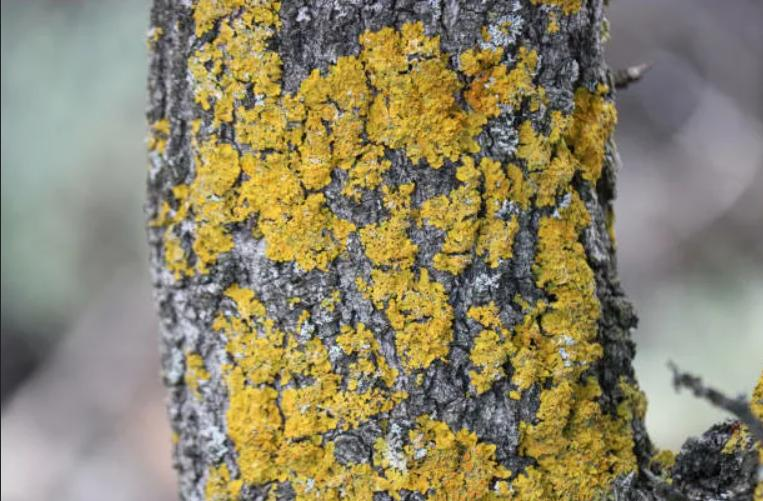lichen: (197, 187, 630, 500), (363, 94, 618, 368), (168, 1, 393, 276), (359, 23, 483, 167)
